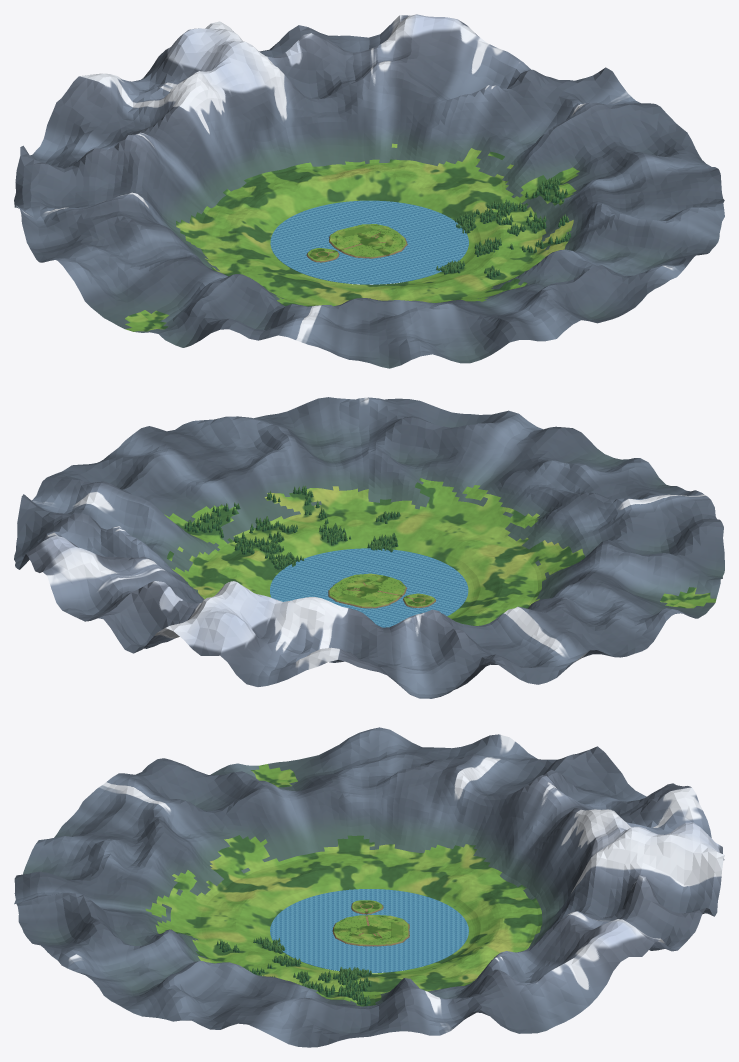
Rendered from LOBBY_SN_02_TERRAIN_c47183.fbx.
The picture shows the model from 3 angles, top to bottom: view 1: azimuth 30°, elevation 25°; view 2: azimuth 150°, elevation 25°; view 3: azimuth 270°, elevation 25°; orthographic projection.
Parts seen in each view (by area): view 1: WB_Bg_Relief_5_01__SN_Mountain, WB_Bg_Relief_6_01__SN_Mountain, WB_Bg_Relief_7_01__SN_Mountain, WB_Bg_Relief_4_01__SN_Mountain, WB_Bg_Relief_0_01__SN_Mountain, WB_Bg_Relief_3_01__SN_Mountain, WB_Bg_Relief_2_01__SN_Mountain, WB_Bg_Relief_1_01__SN_Mountain, WB_Ter_Water__WB_Water, WB_Bg_Relief_7__SN_Hills, WB_Bg_Relief_6__SN_Hills, WB_Bg_Relief_4__SN_Hills (+9 smaller); view 2: WB_Bg_Relief_1_01__SN_Mountain, WB_Bg_Relief_0_01__SN_Mountain, WB_Bg_Relief_5_01__SN_Mountain, WB_Bg_Relief_2_01__SN_Mountain, WB_Bg_Relief_3_01__SN_Mountain, WB_Bg_Relief_4_01__SN_Mountain, WB_Bg_Relief_6_01__SN_Mountain, WB_Bg_Relief_7_01__SN_Mountain, WB_Ter_Water__WB_Water, WB_Bg_Relief_1__SN_Hills, WB_Bg_Relief_2__SN_Hills, WB_Bg_Relief_0__SN_Hills (+8 smaller); view 3: WB_Bg_Relief_4_01__SN_Mountain, WB_Bg_Relief_2_01__SN_Mountain, WB_Bg_Relief_3_01__SN_Mountain, WB_Bg_Relief_6_01__SN_Mountain, WB_Bg_Relief_5_01__SN_Mountain, WB_Bg_Relief_7_01__SN_Mountain, WB_Bg_Relief_1_01__SN_Mountain, WB_Bg_Relief_0_01__SN_Mountain, WB_Ter_Water__WB_Water, WB_Bg_Relief_3__SN_Hills, WB_Bg_Relief_2__SN_Hills, WB_Bg_Relief_4__SN_Hills (+9 smaller).
Boxes of the visible parts, bbox=[...] form: WB_Bg_Relief_5_01__SN_Mountain: bbox=[30, 28, 282, 211]; WB_Bg_Relief_6_01__SN_Mountain: bbox=[205, 14, 456, 169]; WB_Bg_Relief_7_01__SN_Mountain: bbox=[415, 19, 675, 197]; WB_Bg_Relief_4_01__SN_Mountain: bbox=[14, 135, 219, 270]; WB_Bg_Relief_0_01__SN_Mountain: bbox=[521, 123, 724, 250]; WB_Bg_Relief_3_01__SN_Mountain: bbox=[62, 248, 311, 347]; WB_Bg_Relief_2_01__SN_Mountain: bbox=[278, 298, 544, 368]; WB_Bg_Relief_1_01__SN_Mountain: bbox=[477, 229, 711, 341]; WB_Ter_Water__WB_Water: bbox=[270, 200, 468, 284]; WB_Bg_Relief_7__SN_Hills: bbox=[396, 148, 576, 221]; WB_Bg_Relief_6__SN_Hills: bbox=[283, 143, 414, 206]; WB_Bg_Relief_4__SN_Hills: bbox=[176, 212, 284, 271]; WB_Bg_Relief_1_01__SN_Mountain: bbox=[278, 397, 542, 509]; WB_Bg_Relief_0_01__SN_Mountain: bbox=[62, 414, 321, 543]; WB_Bg_Relief_5_01__SN_Mountain: bbox=[192, 582, 457, 698]; WB_Bg_Relief_2_01__SN_Mountain: bbox=[468, 426, 710, 564]; WB_Bg_Relief_3_01__SN_Mountain: bbox=[536, 500, 724, 618]; WB_Bg_Relief_4_01__SN_Mountain: bbox=[433, 596, 674, 688]; WB_Bg_Relief_6_01__SN_Mountain: bbox=[26, 536, 237, 653]; WB_Bg_Relief_7_01__SN_Mountain: bbox=[14, 471, 219, 595]; WB_Ter_Water__WB_Water: bbox=[270, 548, 468, 627]; WB_Bg_Relief_1__SN_Hills: bbox=[316, 478, 480, 553]; WB_Bg_Relief_2__SN_Hills: bbox=[420, 489, 570, 580]; WB_Bg_Relief_0__SN_Hills: bbox=[164, 488, 342, 569]; WB_Bg_Relief_4_01__SN_Mountain: bbox=[368, 727, 621, 867]; WB_Bg_Relief_2_01__SN_Mountain: bbox=[14, 773, 246, 915]; WB_Bg_Relief_3_01__SN_Mountain: bbox=[119, 729, 370, 871]; WB_Bg_Relief_6_01__SN_Mountain: bbox=[528, 827, 724, 961]; WB_Bg_Relief_5_01__SN_Mountain: bbox=[491, 773, 724, 920]; WB_Bg_Relief_7_01__SN_Mountain: bbox=[368, 938, 620, 1036]; WB_Bg_Relief_1_01__SN_Mountain: bbox=[14, 892, 208, 1004]; WB_Bg_Relief_0_01__SN_Mountain: bbox=[119, 961, 370, 1047]; WB_Ter_Water__WB_Water: bbox=[270, 889, 468, 972]; WB_Bg_Relief_3__SN_Hills: bbox=[222, 764, 369, 901]; WB_Bg_Relief_2__SN_Hills: bbox=[151, 849, 297, 931]; WB_Bg_Relief_4__SN_Hills: bbox=[369, 842, 491, 901].
Bounding box in the file's own units: 3001 × 489 × 3002.
10 materials, 7 textured.
